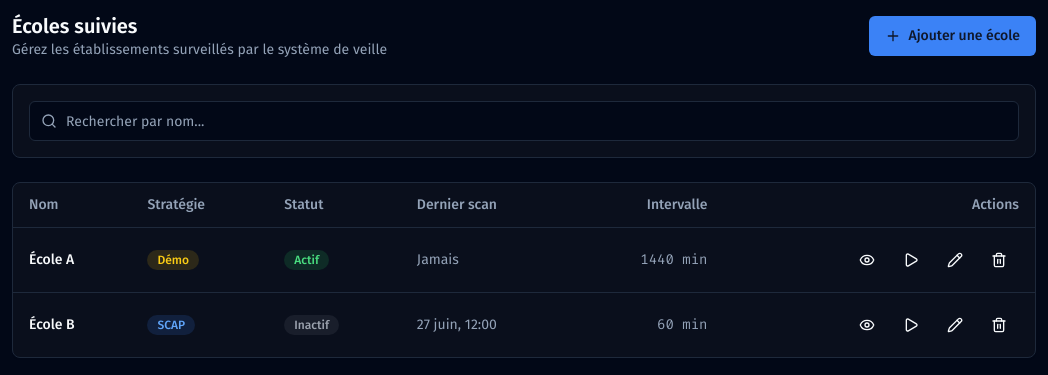
it: SchoolsPage › filters schools by name via search input
Expected: the text "École A" is shown, [13,228,131,292]
In the field with placeholder "Rechercher par nom...": (524, 121) [29,101,1019,141], type "B"
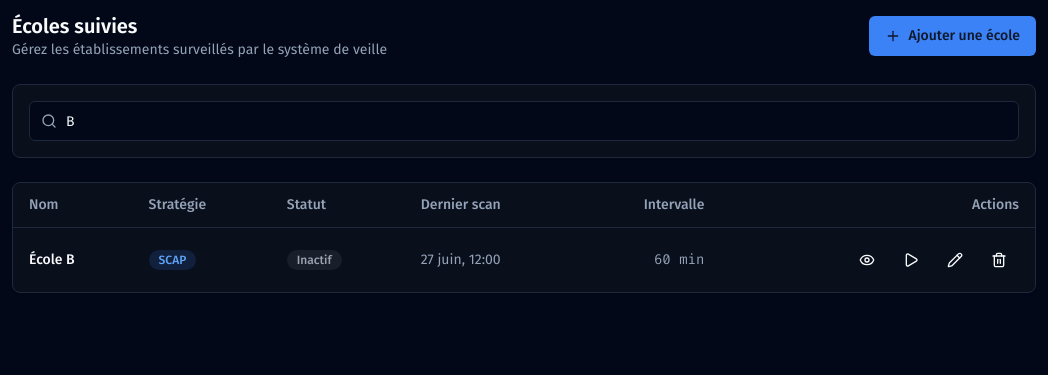
Expected: the text "École B" is shown, [13,228,133,292]
Result: the text "École A" is gone
